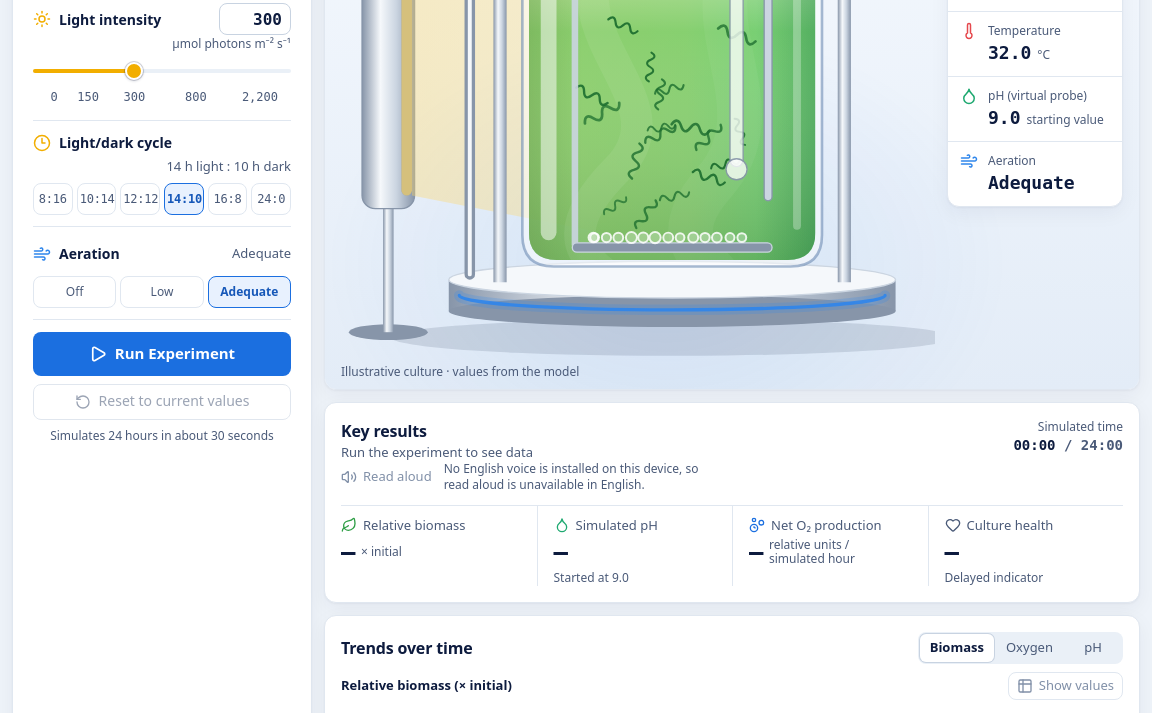
Test case: experiment workspace (PRD-0002) › W2 locks controls while running, and Reset aborts to Ready (§9, D-5)
The width and height of the screenshot is (1152, 713).
(page scrolled)
Click the button with test id "run-button" at x=162, y=354, box [33,332,291,376]
Wait 1000 ms
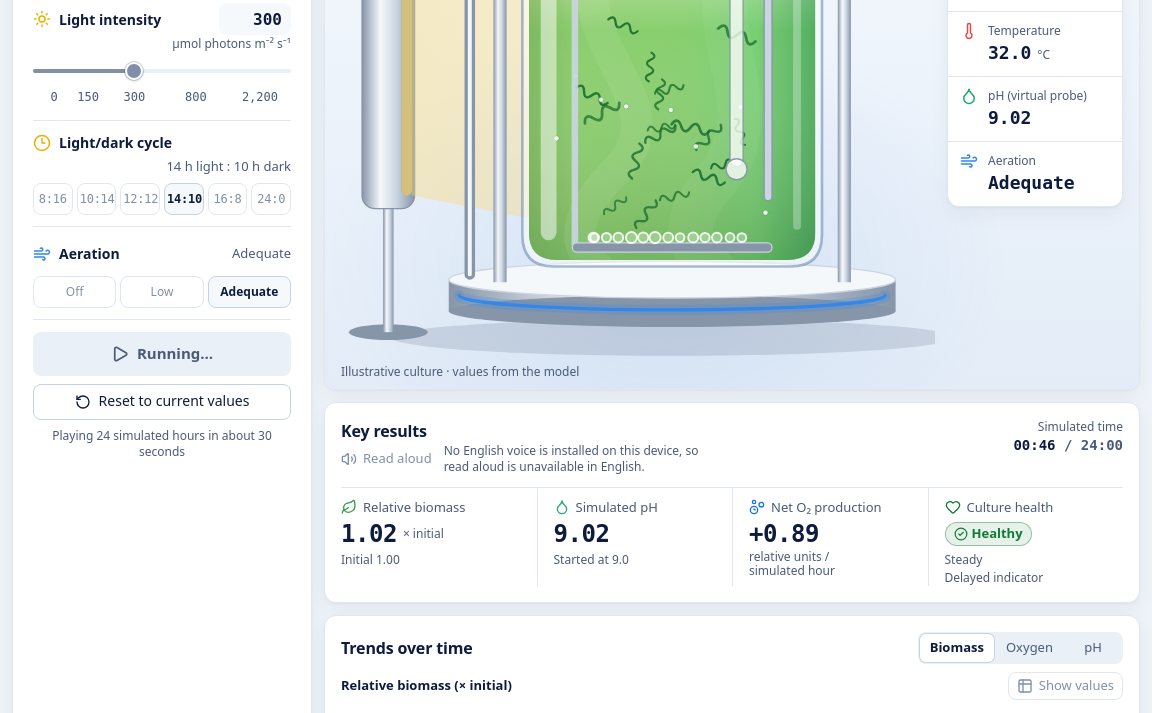
Expected: the button with test id "run-button" is disabled, [33,332,291,376]
Expected: the button "Reset to current values" is enabled
Click the button "Reset to current values" at x=162, y=402, box [33,384,291,420]
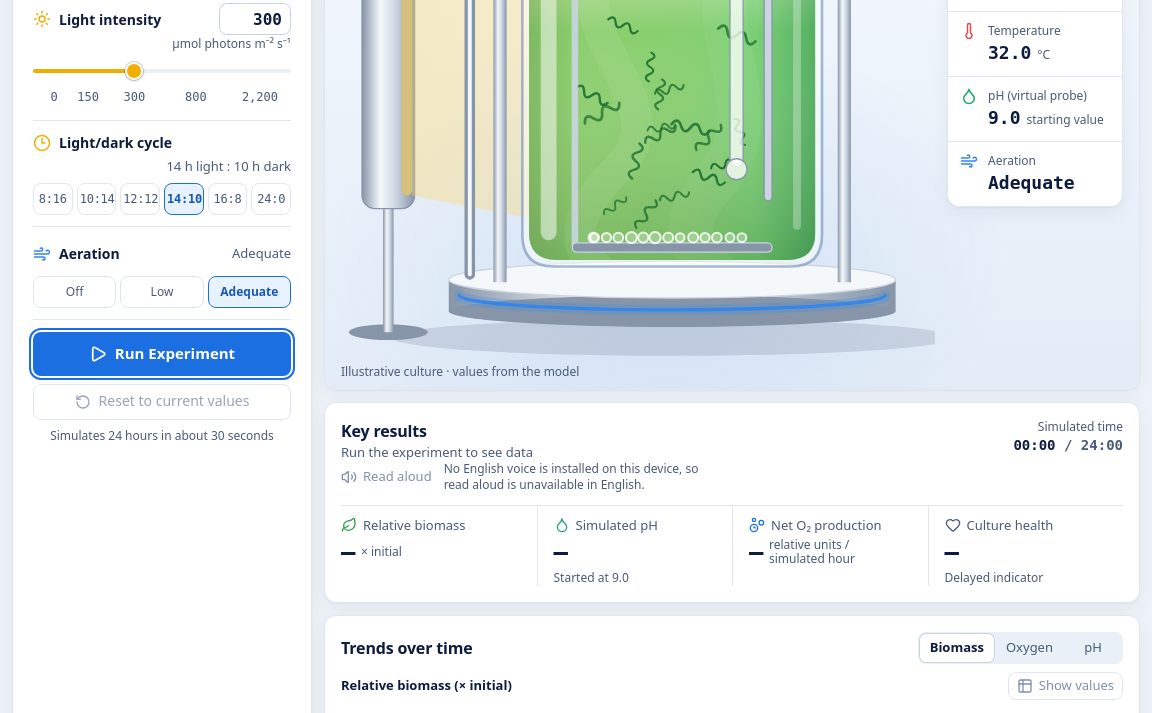
Expected: the element with test id "readout-biomass" shows "—", [341,538,355,566]
